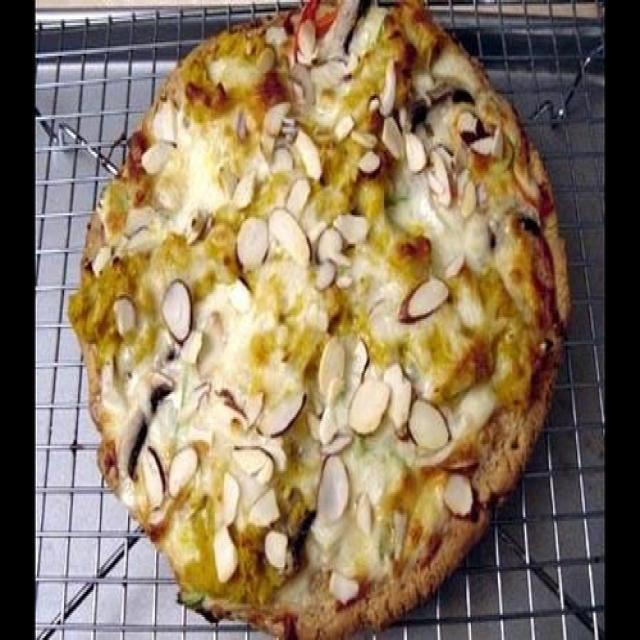Wet Waste: (65, 4, 576, 640)
